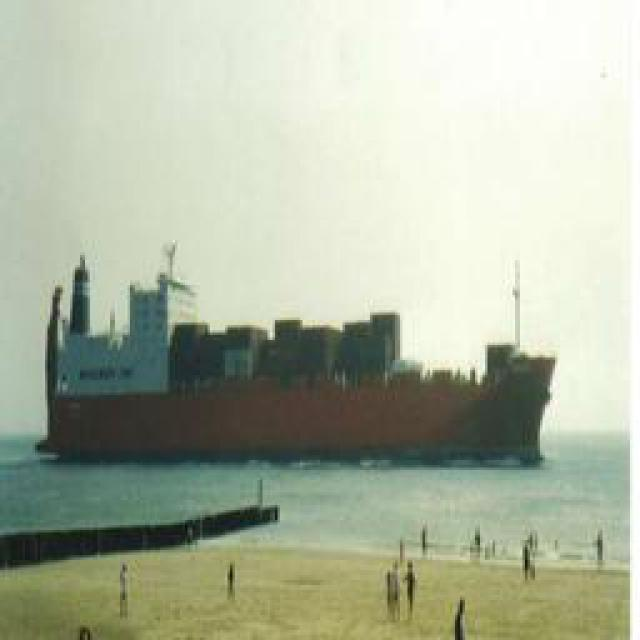Ship: (33, 233, 564, 473)
